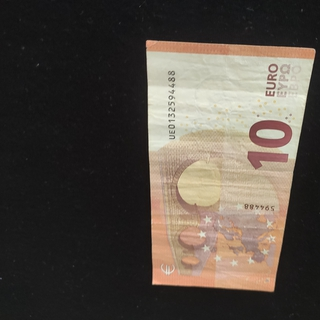10EUROBack: (145, 38, 316, 293)
